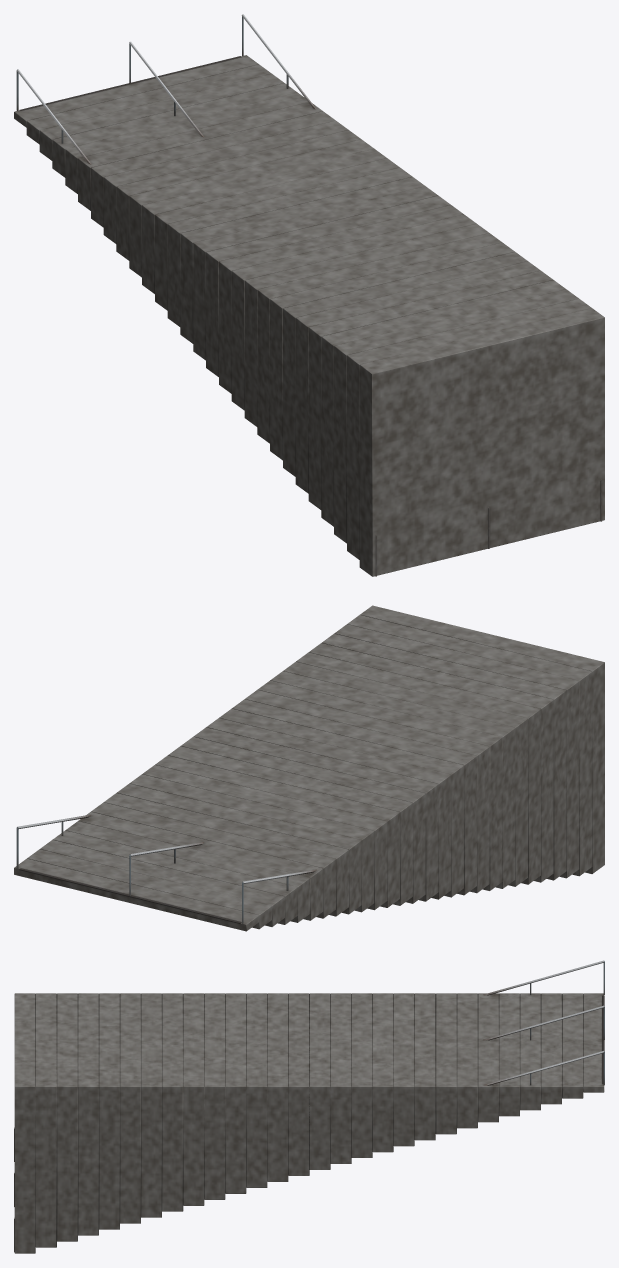
Rendered from g67_pz_stairs.glb.
3 views of the same model, one above another, from view 1: azimuth 30°, elevation 25°; view 2: azimuth 150°, elevation 25°; view 3: azimuth 270°, elevation 25° (orthographic). The views are drawn at different scales.
Parts seen in each view (by area): view 1: g67_pz_stairs; view 2: g67_pz_stairs; view 3: g67_pz_stairs.
Part boxes in pixels (box(x1,y1,x2,y2)): g67_pz_stairs: box(14, 14, 604, 576); g67_pz_stairs: box(14, 605, 604, 931); g67_pz_stairs: box(14, 960, 604, 1253).
Size of the model in its own units: 6 by 6.02 by 16.04.
Materials: 1 (1 with a texture image).
